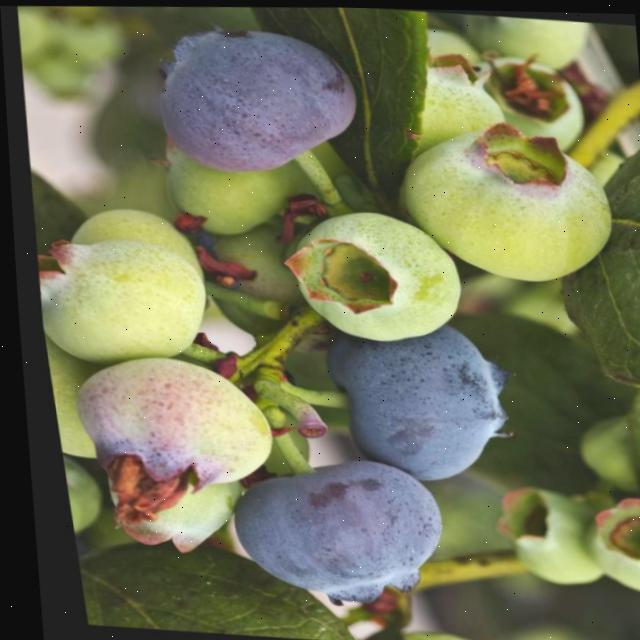RipeBlueBerry: (214, 459, 437, 611), (313, 328, 507, 487)
Semi-RipeBlueBerry: (49, 345, 263, 494)
UnripeBlueBerry: (393, 124, 627, 288), (19, 202, 206, 370), (278, 202, 462, 348)
